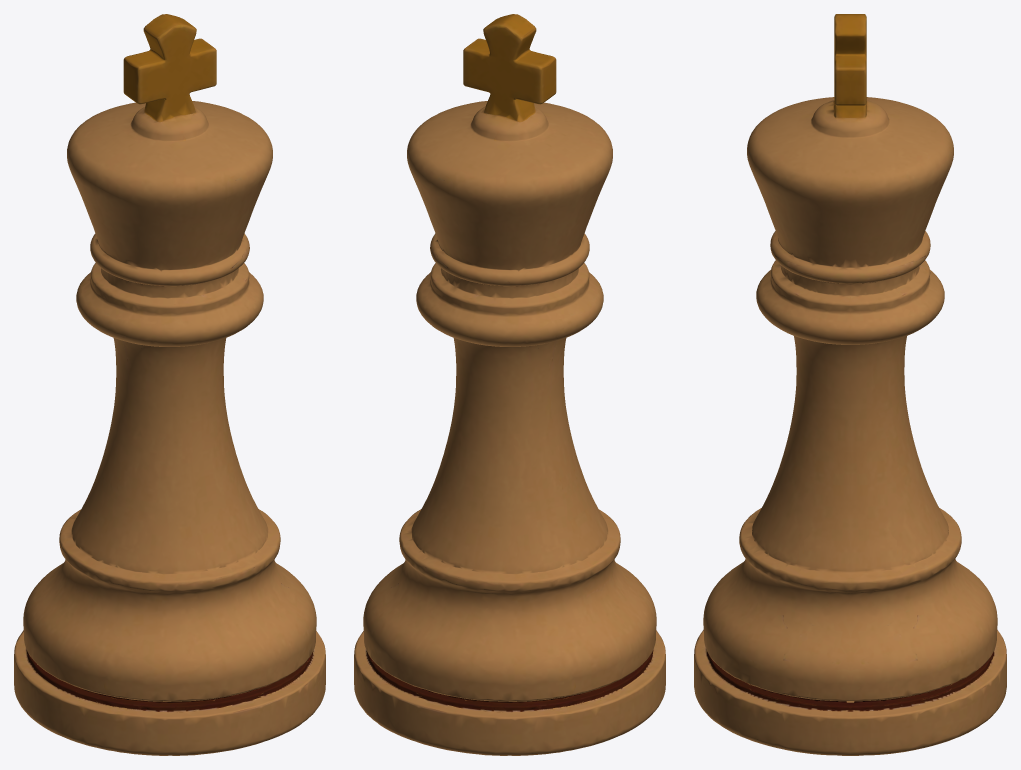
Rendered from 01_king_light.glb.
3 renders of one model, left to right at view 1: azimuth 30°, elevation 25°; view 2: azimuth 150°, elevation 25°; view 3: azimuth 270°, elevation 25°, orthographic.
Visible parts, largest first — view 1: world; view 2: world; view 3: world.
Boxes of the visible parts, <box> form: world: <box>14,14,325,755</box>; world: <box>354,14,665,755</box>; world: <box>694,14,1006,755</box>.
Bounding box in the file's own units: 0.4204 × 1 × 0.4202.
Materials: 1 (1 with a texture image).
